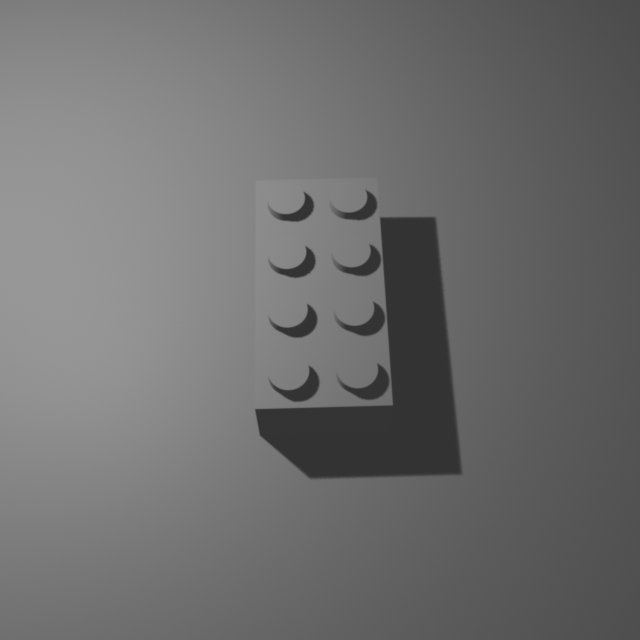lego_2x4: (254, 170, 394, 436)
